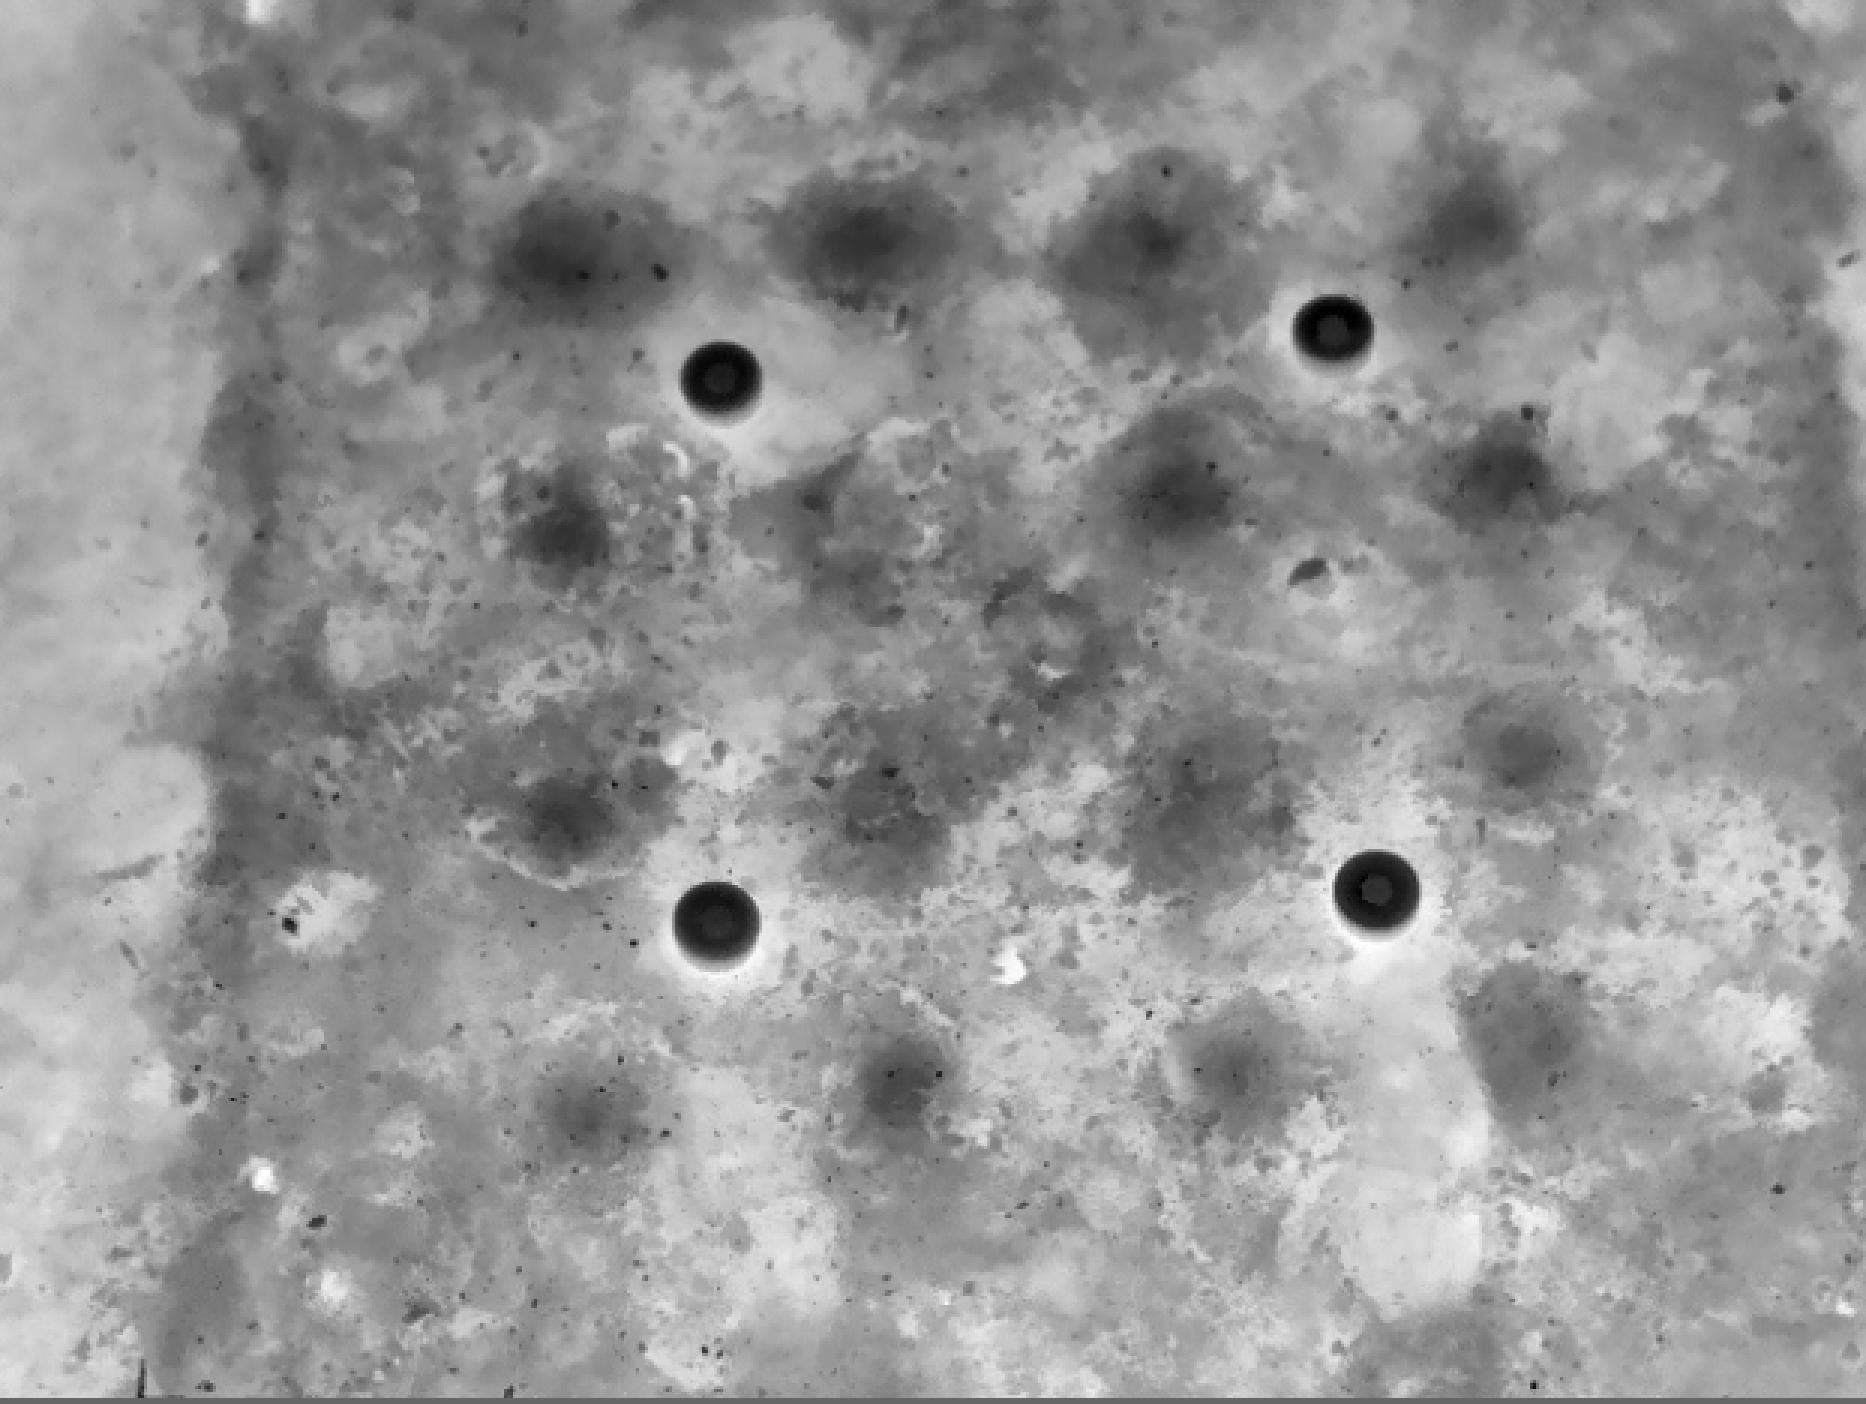mines-gjV8: (676, 877, 757, 973), (1332, 855, 1416, 944), (1295, 288, 1381, 372), (687, 342, 771, 420)
